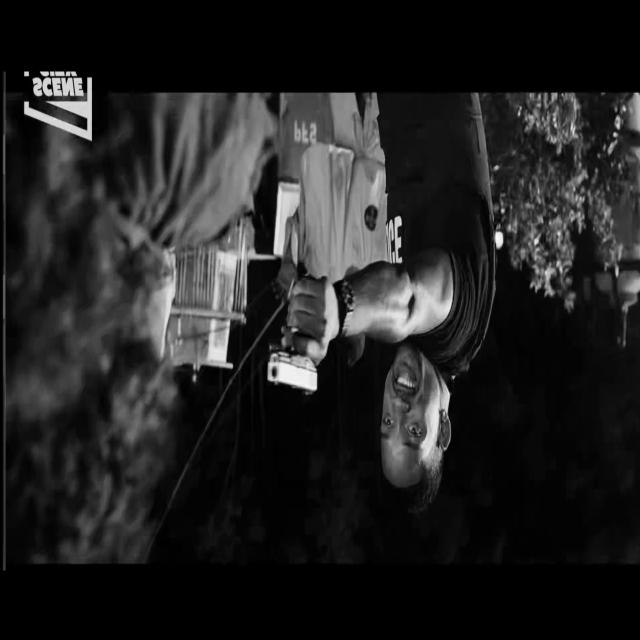weapons: (262, 287, 330, 421)
